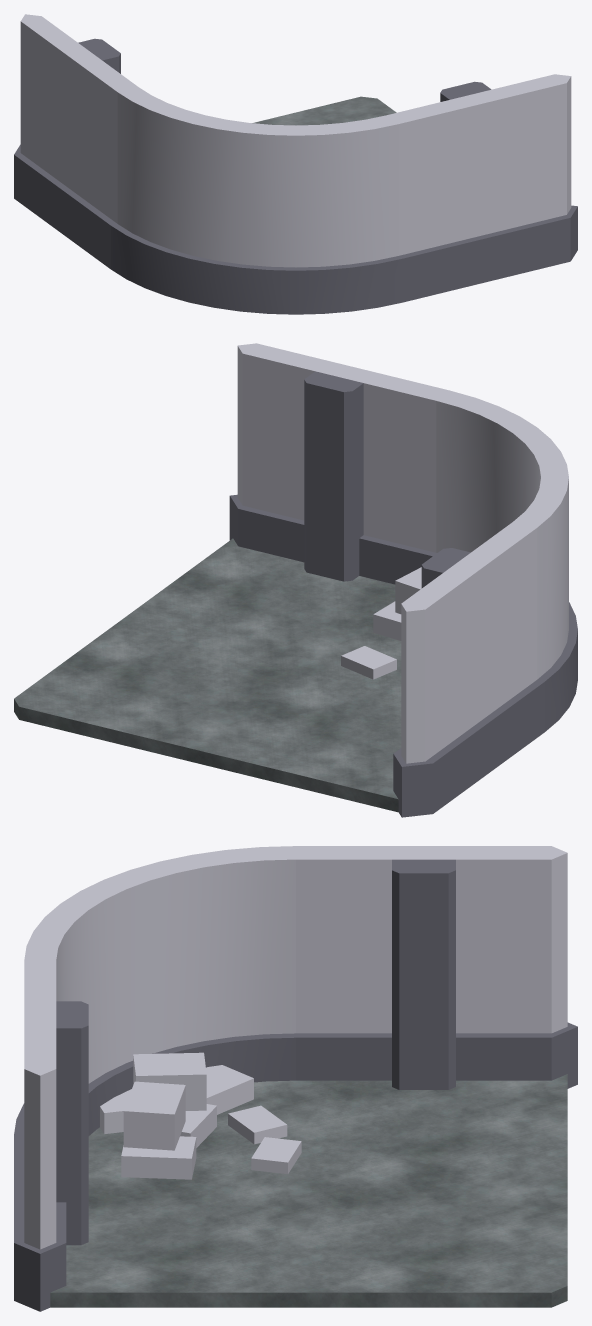
File: corner_04.fbx
The picture shows the model from 3 angles, top to bottom: view 1: azimuth 30°, elevation 25°; view 2: azimuth 150°, elevation 25°; view 3: azimuth 270°, elevation 25°; orthographic projection. The views are drawn at different scales.
Visible parts, largest first — view 1: corner_03_12, wall_02_2, wall_02_3, floor_03_13; view 2: floor_03_13, wall_02_2, wall_02_3, corner_03_12, debris_bricks_14; view 3: floor_03_13, wall_02_3, corner_03_12, wall_02_2, debris_bricks_14.
Part boxes in pixels (left/top/right/bottom): corner_03_12: left=111, top=87, right=404, bottom=314; wall_02_2: left=382, top=74, right=577, bottom=302; wall_02_3: left=14, top=14, right=138, bottom=269; floor_03_13: left=252, top=96, right=396, bottom=125; floor_03_13: left=14, top=538, right=401, bottom=812; wall_02_2: left=229, top=343, right=454, bottom=584; wall_02_3: left=393, top=519, right=544, bottom=817; corner_03_12: left=429, top=390, right=577, bottom=731; debris_bricks_14: left=341, top=567, right=421, bottom=679; floor_03_13: left=50, top=1074, right=567, bottom=1307; wall_02_3: left=280, top=846, right=577, bottom=1089; corner_03_12: left=14, top=846, right=309, bottom=1138; wall_02_2: left=14, top=954, right=88, bottom=1311; debris_bricks_14: left=100, top=1052, right=301, bottom=1179.
Size of the model in its own units: 22.05 by 10 by 22.05.
